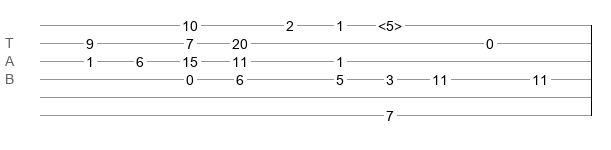0: (186, 72, 194, 82), (486, 36, 494, 46)
1: (86, 54, 94, 64), (336, 54, 344, 64), (336, 18, 344, 28)
10: (182, 18, 198, 28)
11: (232, 54, 248, 64), (432, 72, 448, 82), (532, 72, 548, 82)
15: (182, 54, 198, 64)
2: (286, 18, 294, 28)
20: (232, 36, 248, 46)
3: (386, 72, 394, 82)
5: (336, 72, 344, 82)
6: (136, 54, 144, 64), (236, 72, 244, 82)
7: (186, 36, 194, 46), (386, 108, 394, 118)
9: (86, 36, 94, 46)
harmonic: (378, 18, 402, 28)
